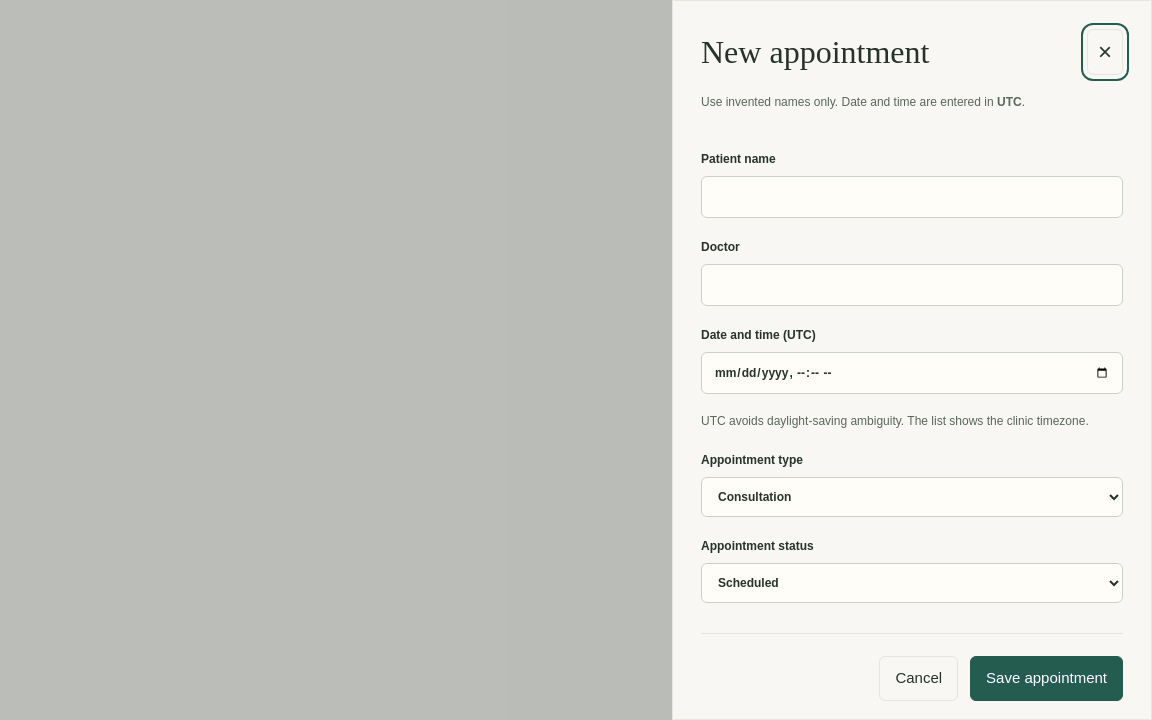
Test: associates appointment_at validation with its field while retaining the form
The width and height of the screenshot is (1152, 720).
In the field labelled "Patient name": coordinates (912, 197) [701, 176, 1123, 218], type "Fictional Rowan"
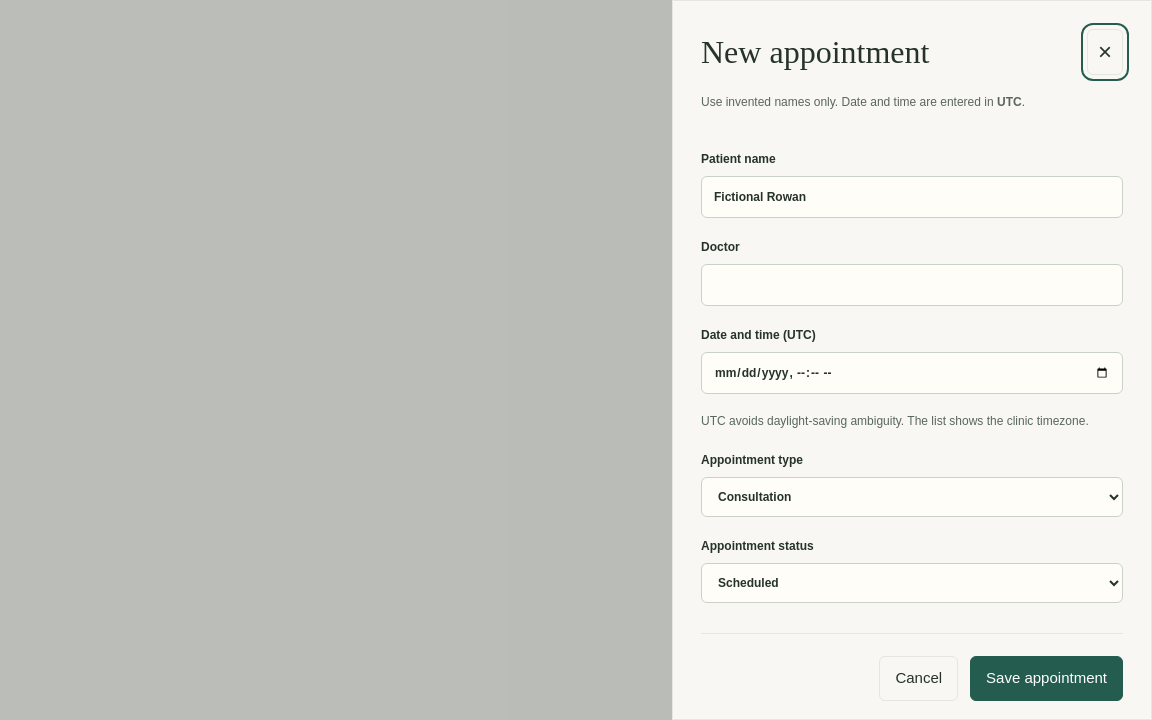
In the field labelled "Doctor": coordinates (912, 285) [701, 264, 1123, 306], type "Dr. Fictional Avery"
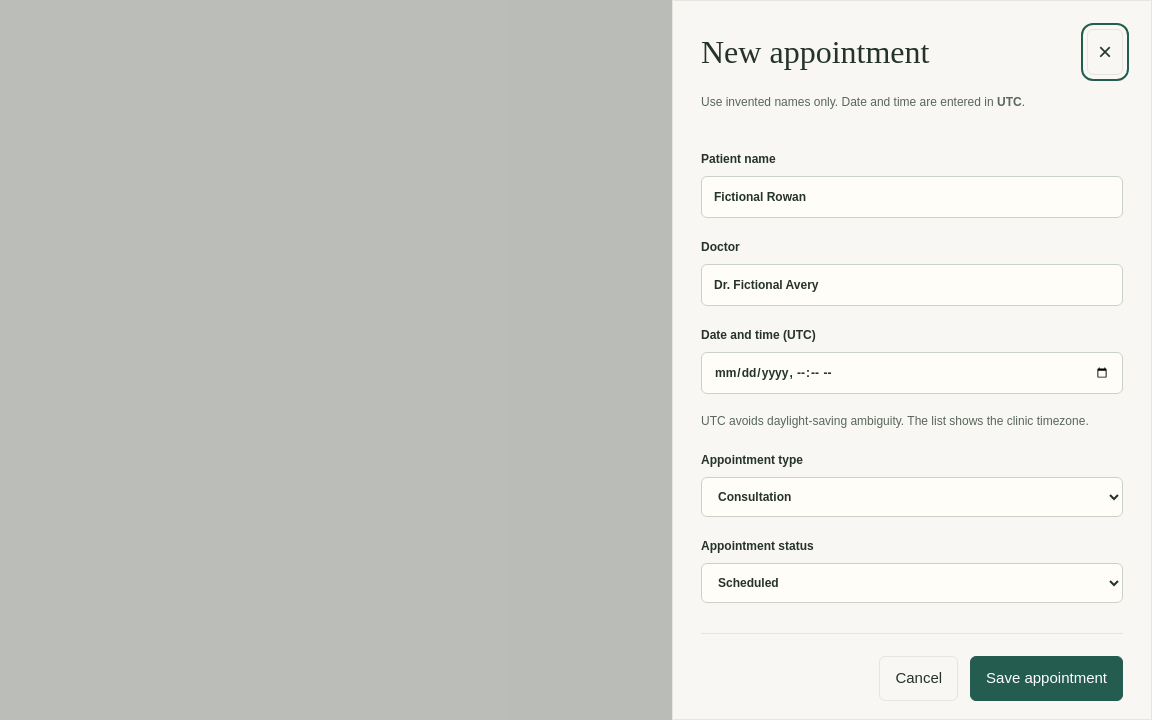
In the field labelled "Date and time (UTC)": coordinates (912, 373) [701, 352, 1123, 394], type "2026-10-20T09:30"
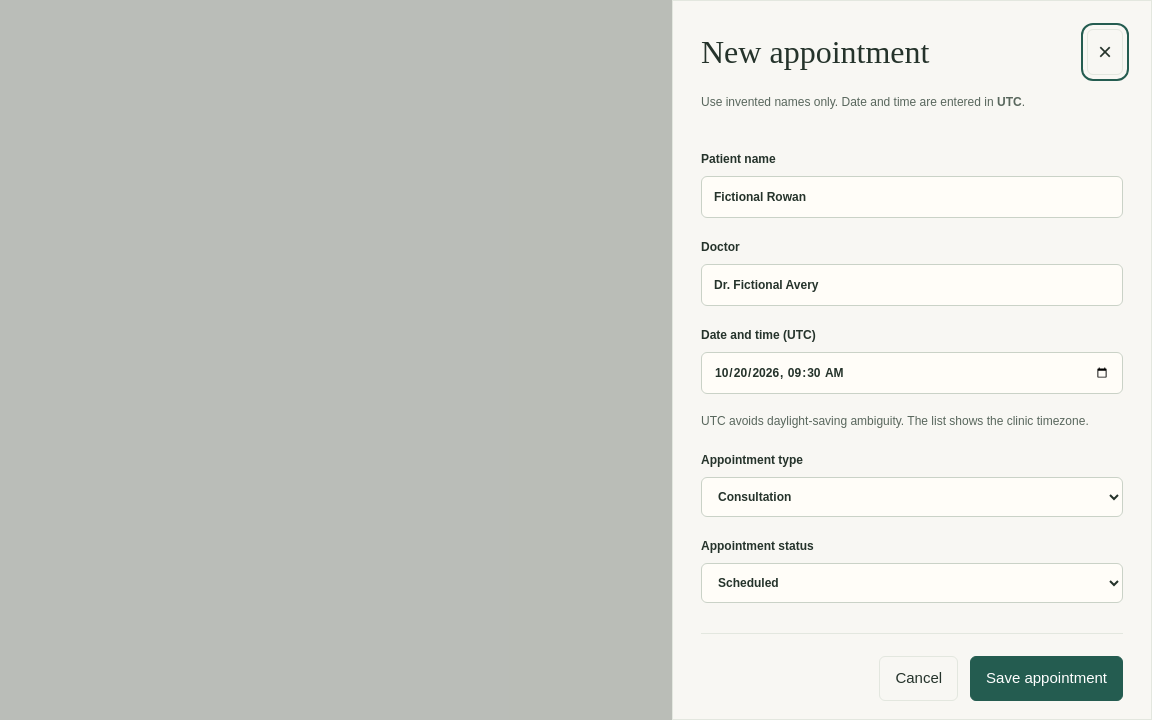
Select "Follow up" in the dropdown labelled "Appointment type": coordinates (912, 497) [701, 477, 1123, 517]
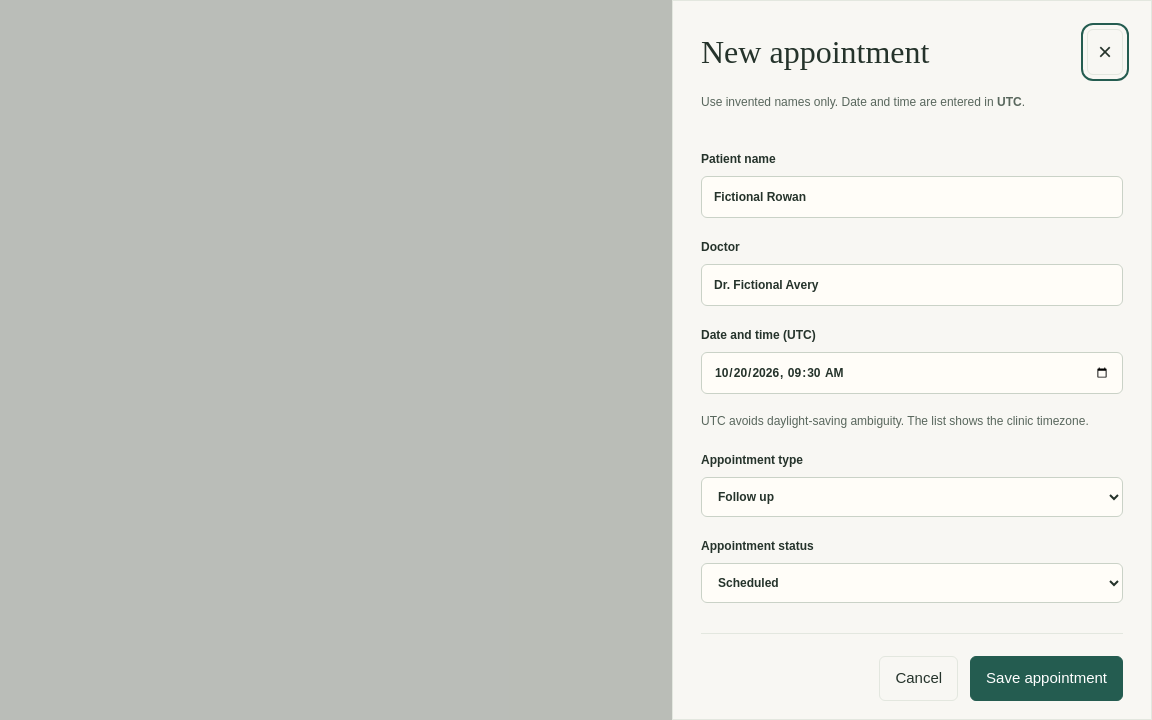
Select "Completed" in the dropdown labelled "Appointment status": coordinates (912, 583) [701, 563, 1123, 603]
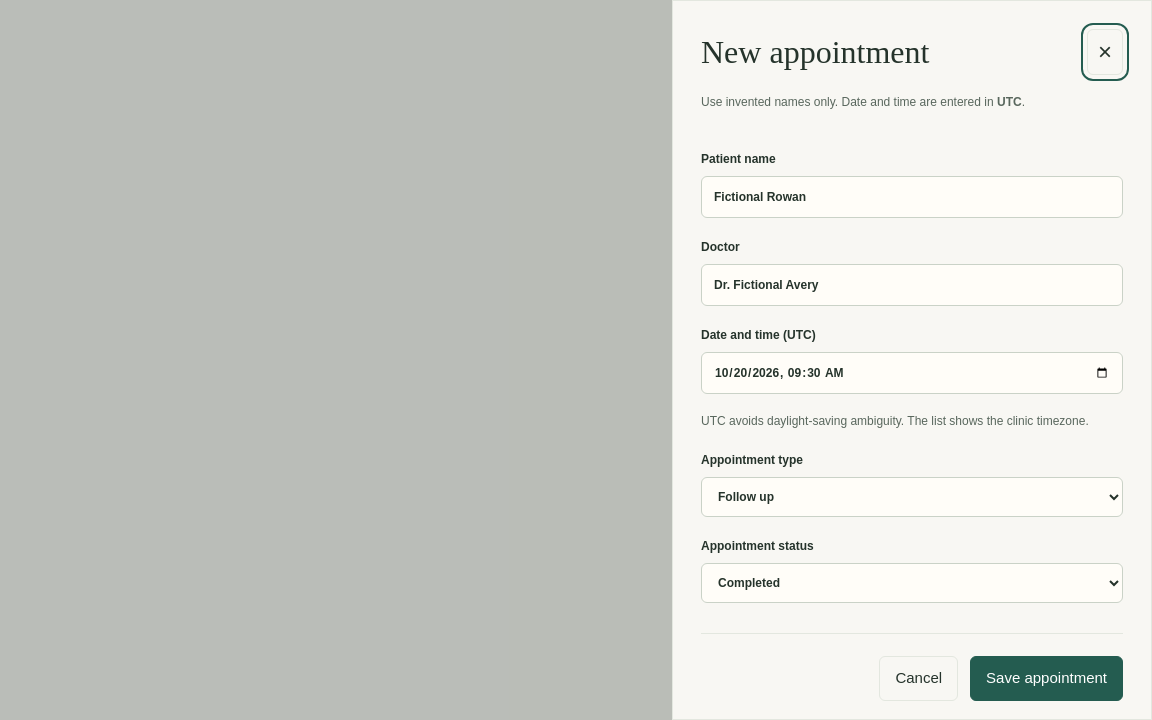
Submit the form named "Save appointment", box [701, 130, 1123, 701]
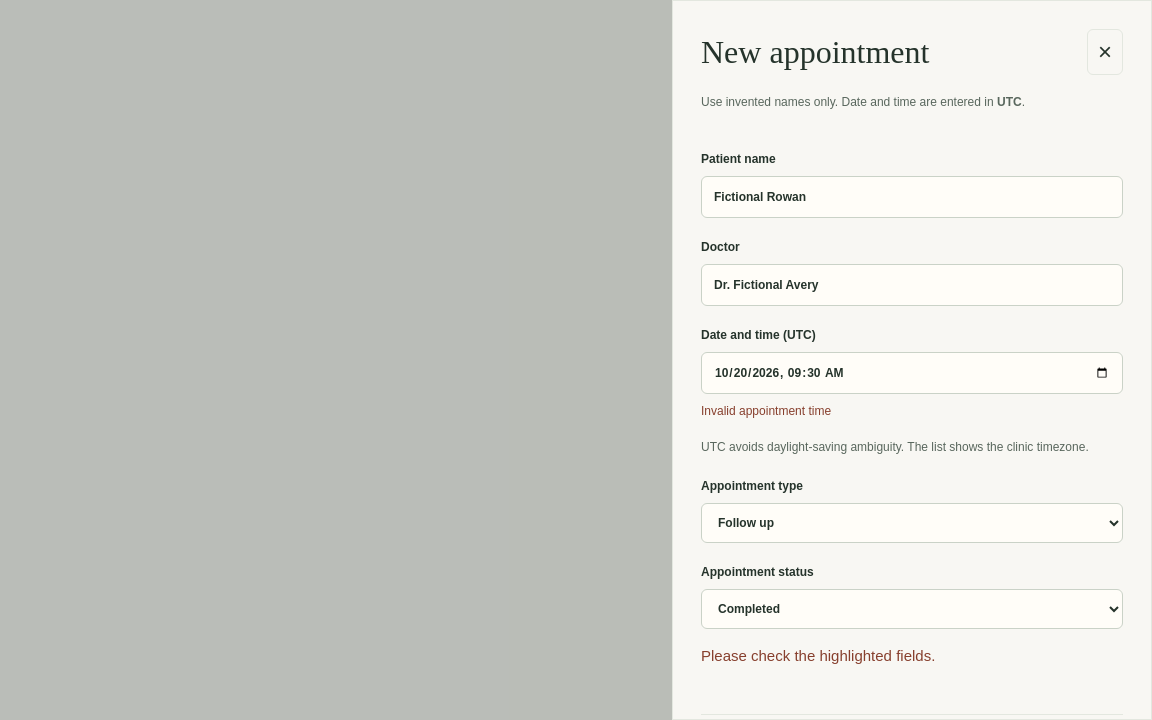
Expected: the text "Invalid appointment time" is shown, [701, 404, 831, 418]
